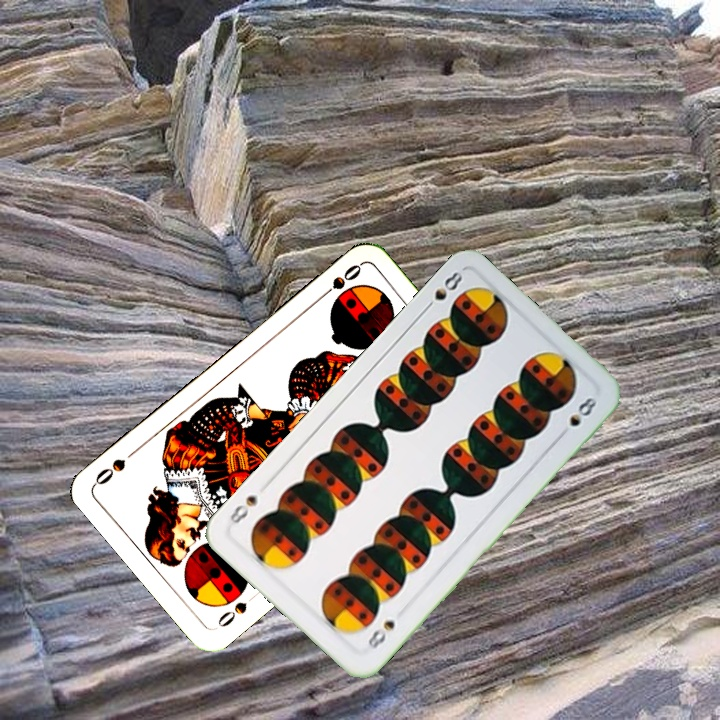S8: (419, 267, 466, 315), (363, 616, 398, 652)
SO: (314, 260, 364, 303), (213, 588, 261, 631)
